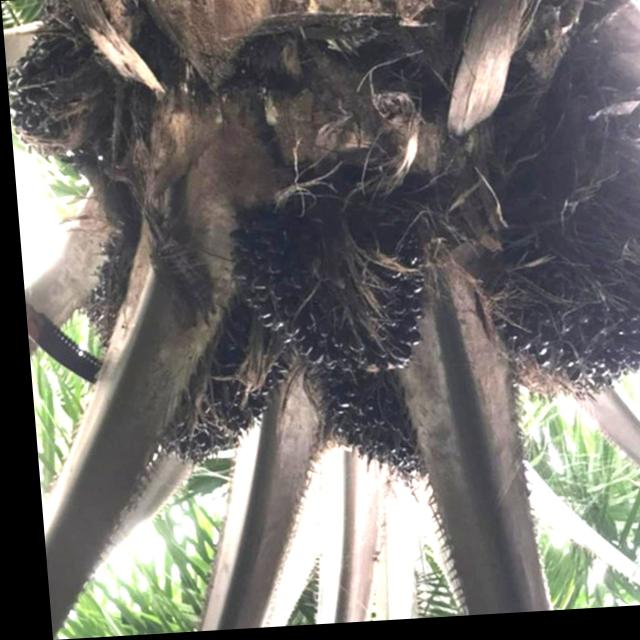almost: (210, 172, 449, 397)
